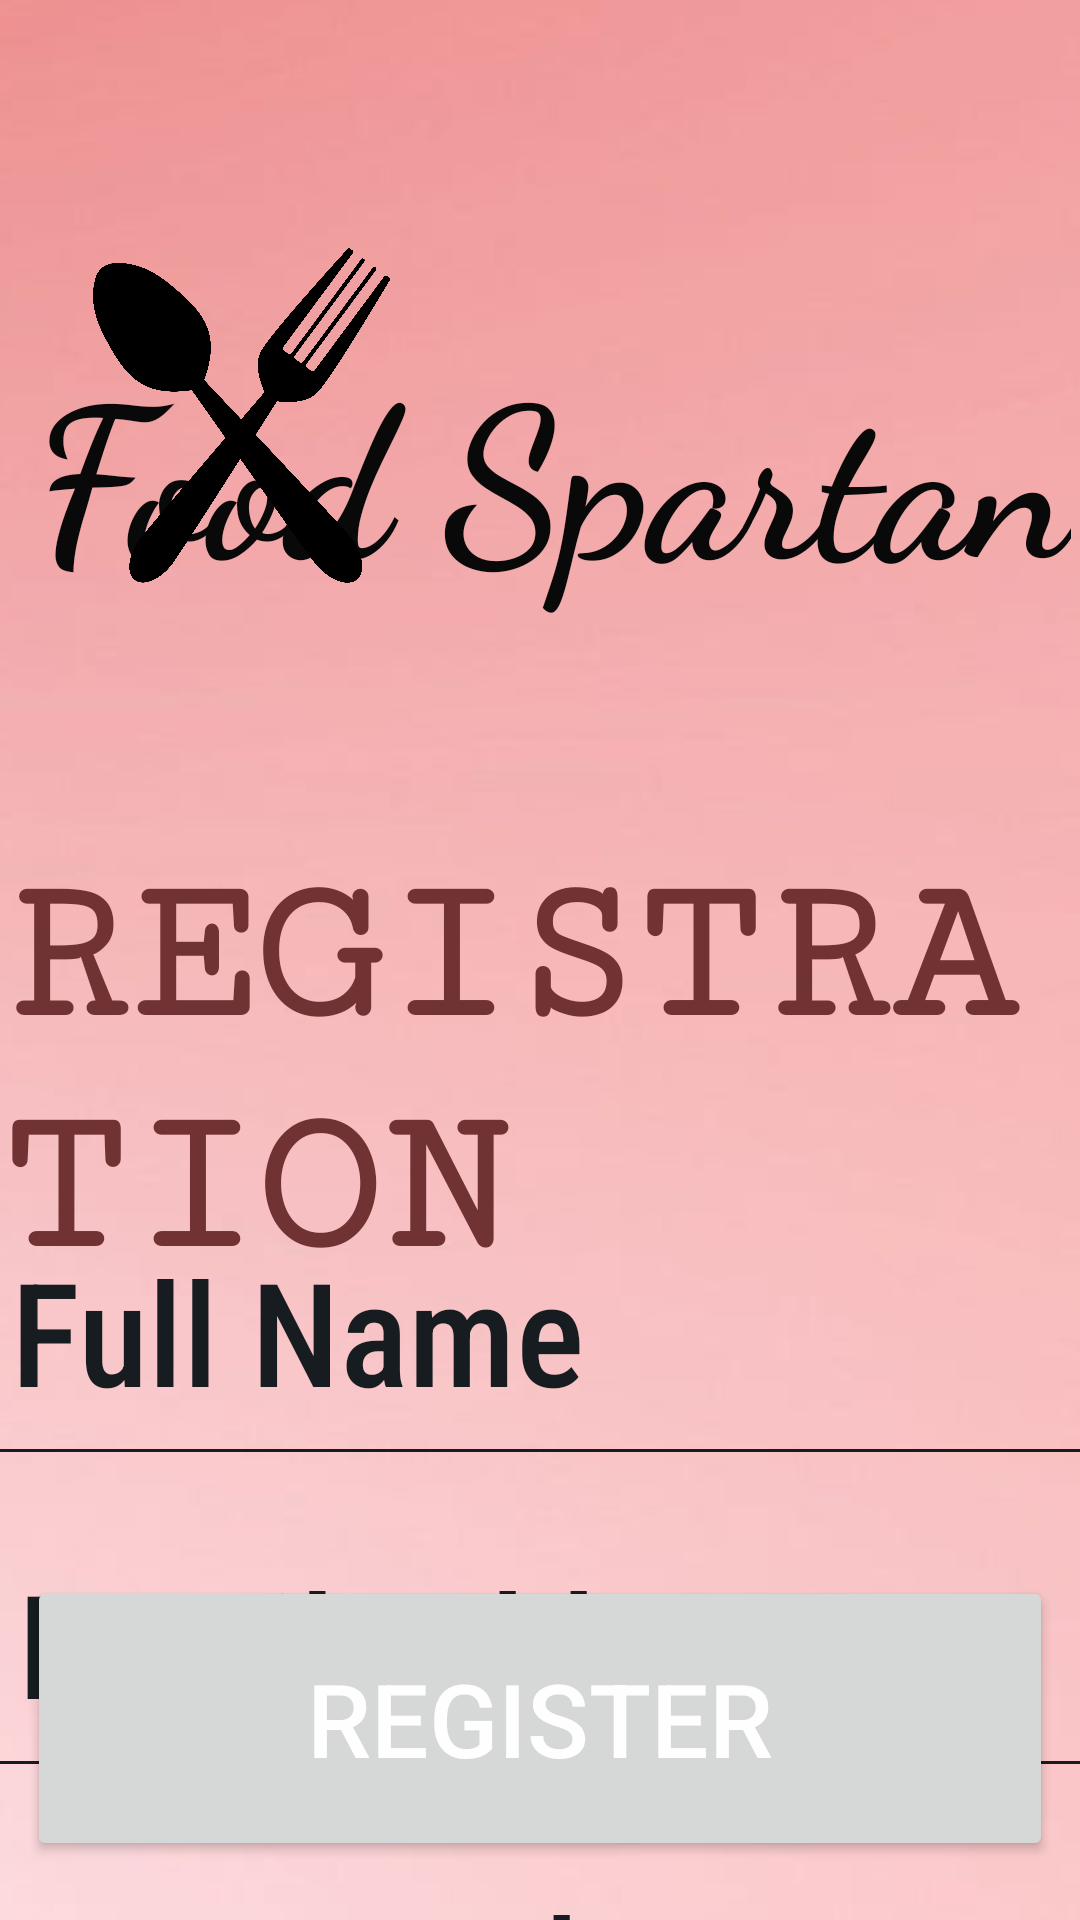

Screen size 1080 × 1920. Icon name, then its box in pixels as (x1, y1, x2, y2):
vecteezy spoon and fork: (93, 240, 390, 583)
